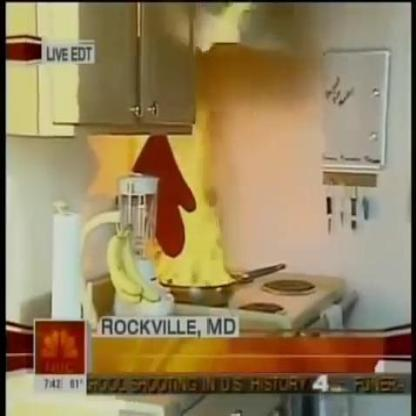fire: (137, 104, 249, 285), (193, 0, 262, 59)
